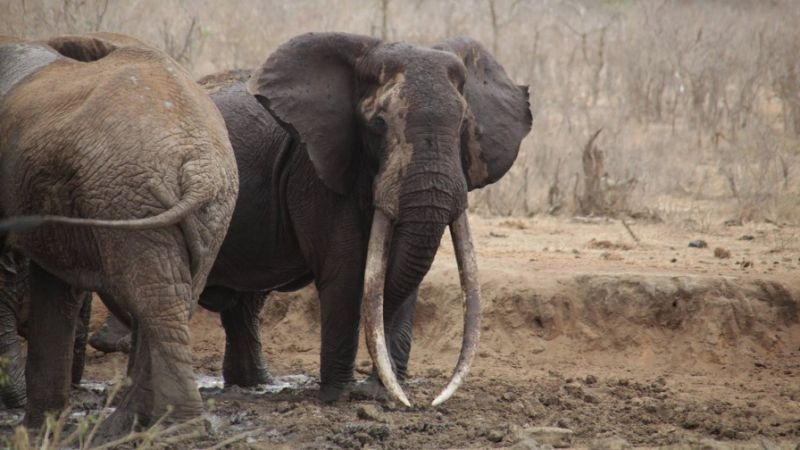elephant: (166, 29, 530, 414), (3, 33, 241, 432)
